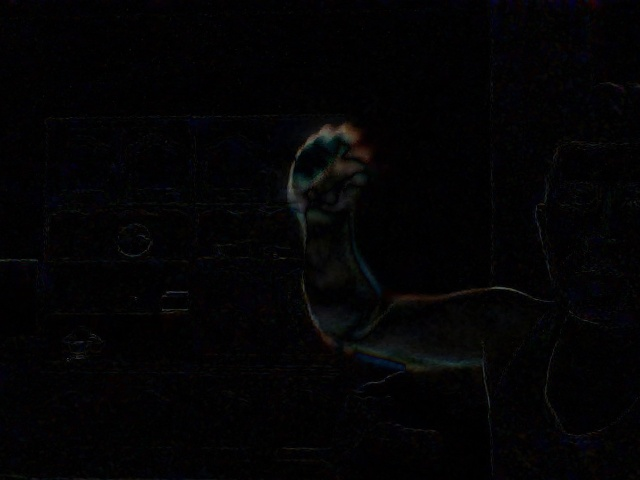hand_fi: (275, 112, 384, 223)
